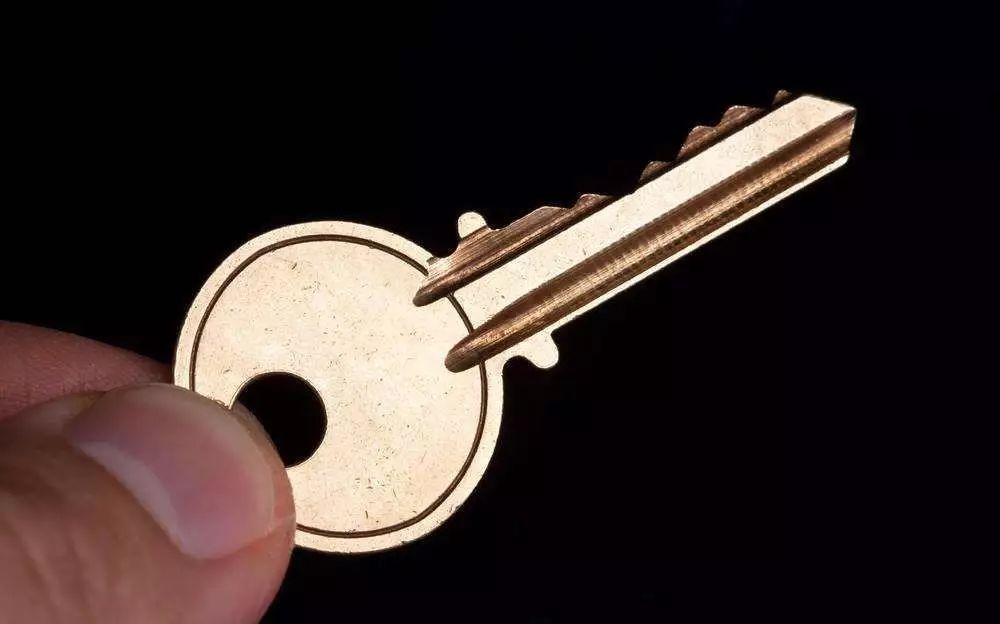key: (154, 80, 871, 566)
